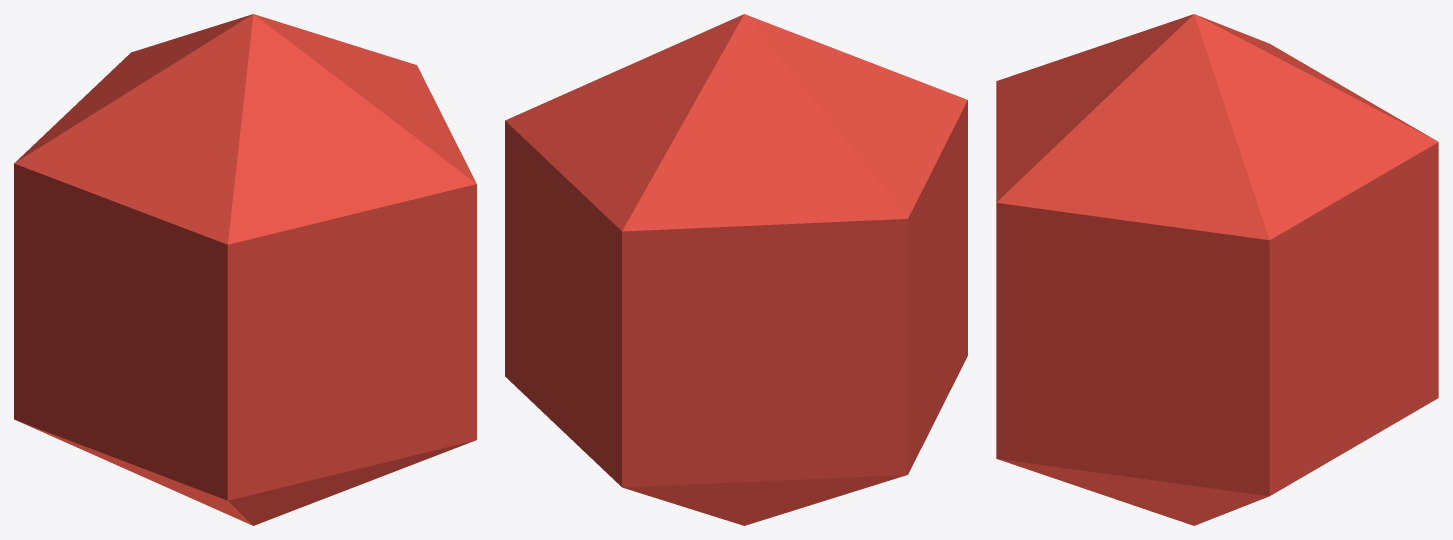
The model's file is FishingNet_1.fbx.
3 renders of one model, left to right at view 1: azimuth 30°, elevation 25°; view 2: azimuth 150°, elevation 25°; view 3: azimuth 270°, elevation 25°, orthographic.
Parts seen in each view (by area): view 1: Fishingnet1_mesh; view 2: Fishingnet1_mesh; view 3: Fishingnet1_mesh.
Boxes of the visible parts, x1,y1,x2,y2 form: Fishingnet1_mesh: (14, 14, 476, 525); Fishingnet1_mesh: (505, 14, 967, 525); Fishingnet1_mesh: (996, 14, 1438, 525).
Bounding box in the file's own units: 9.95 × 12.08 × 9.46.
